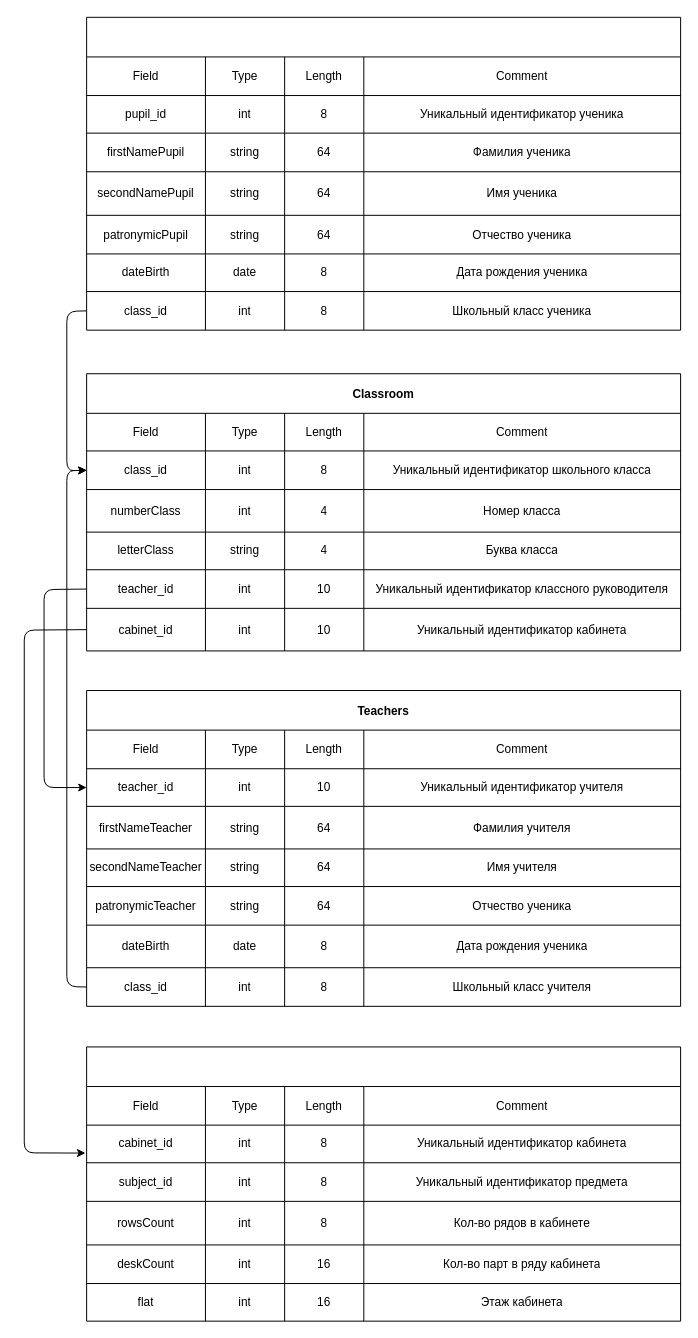
Image size: 698x1338. Some labels were removed from this diagram. Each missing label, with the box of its shape:
Cabinets: (86, 1046, 681, 1321)
Pupils: (86, 16, 681, 330)
